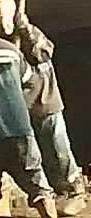helmet: (0, 0, 17, 17)
vest: (0, 38, 36, 141)
